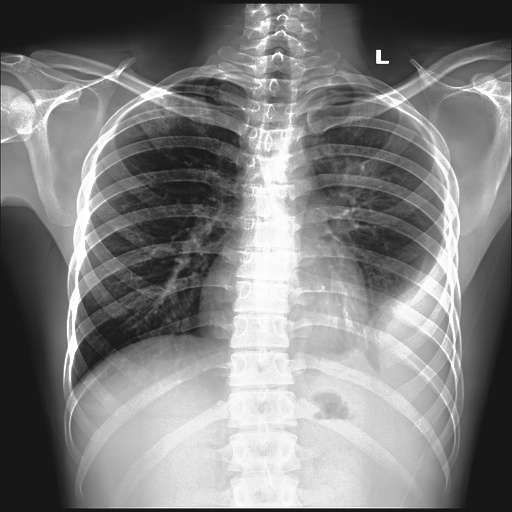Calcification: (325, 86, 396, 105), (178, 77, 214, 84)
ILD: (122, 91, 176, 132)
Pleural effusion: (350, 213, 460, 382)
Pneumothorax: (125, 88, 213, 135)
Pulmonary fibrosis: (122, 91, 176, 132)
